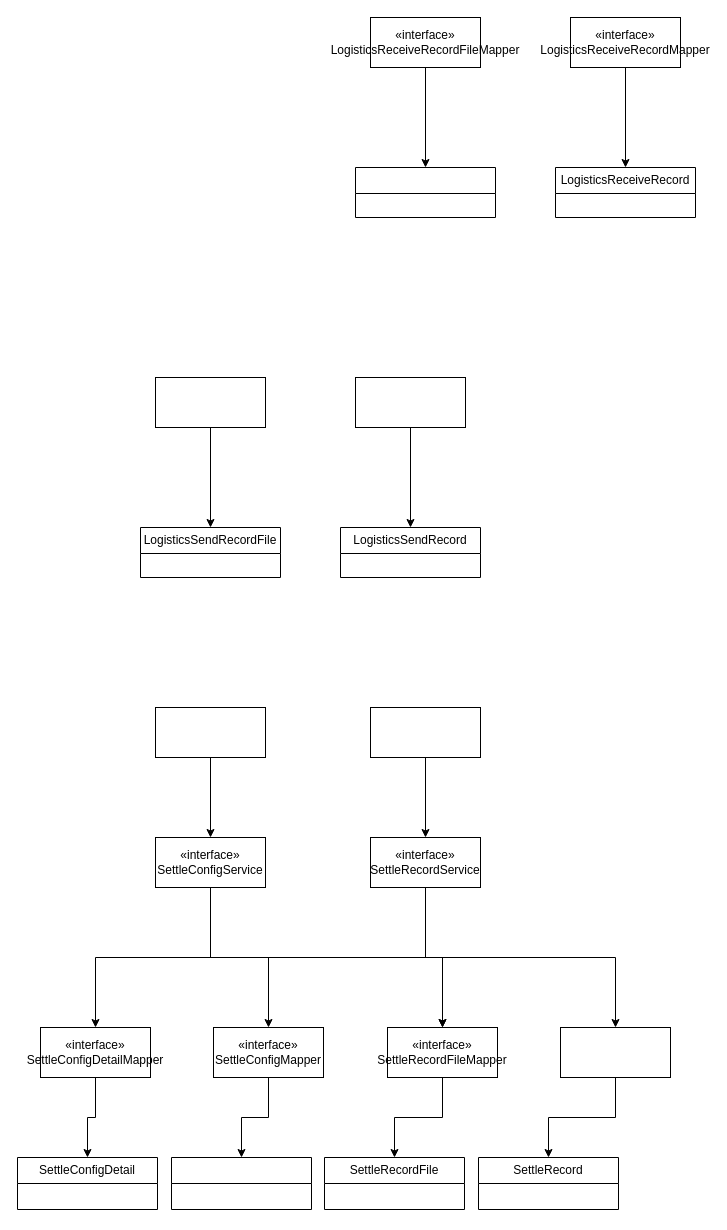
Image size: 727x1230. Some labels were removed from this diagram. The centre of each missing label's shape, as x and y in pixels:
LogisticsReceiveRecordFile: the point at 425,192
SettleConfig: the point at 241,1183
«interface» LogisticsSendRecordFileMapper: the point at 210,402
«interface» LogisticsSendRecordMapper: the point at 410,402
«interface» SettleConfigController: the point at 210,732
«interface» SettleRecordController: the point at 425,732
«interface» SettleRecordMapper: the point at 615,1052
